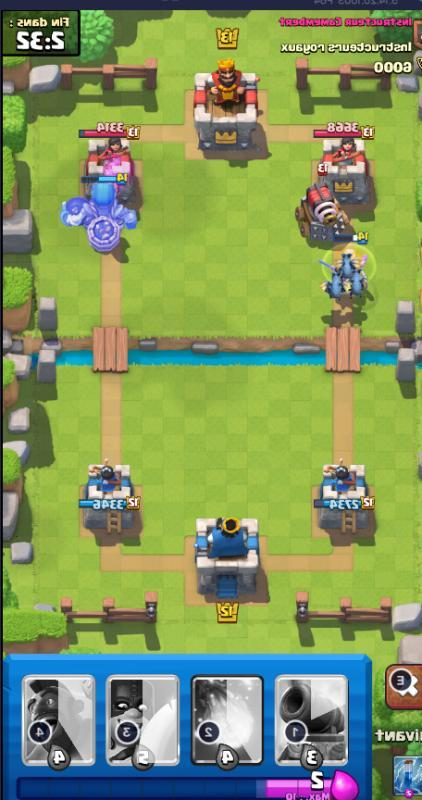enemy_sparky: (291, 177, 351, 242)
player_giant_skeleton: (56, 172, 143, 255)
player_minions: (317, 264, 348, 303), (333, 245, 365, 279), (344, 265, 372, 297)
